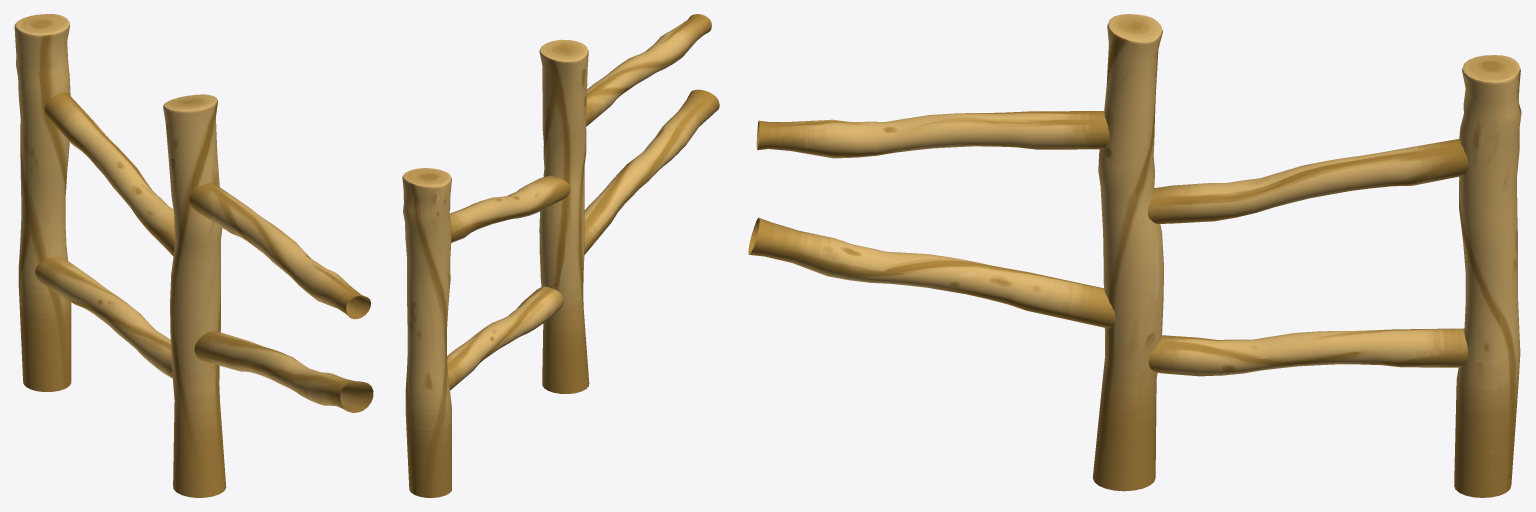
File: Fence1.fbx
3 views of the same model, side by side, from view 1: azimuth 30°, elevation 25°; view 2: azimuth 150°, elevation 25°; view 3: azimuth 270°, elevation 25° (orthographic). The views are drawn at different scales.
Parts seen in each view (by area): view 1: pCylinder18; view 2: pCylinder18; view 3: pCylinder18.
Boxes of the visible parts, x1,y1,x2,y2 form: pCylinder18: (14, 14, 373, 497); pCylinder18: (402, 14, 719, 497); pCylinder18: (748, 14, 1521, 497).
Bounding box in the file's own units: 0.1987 × 1.42 × 2.16.
